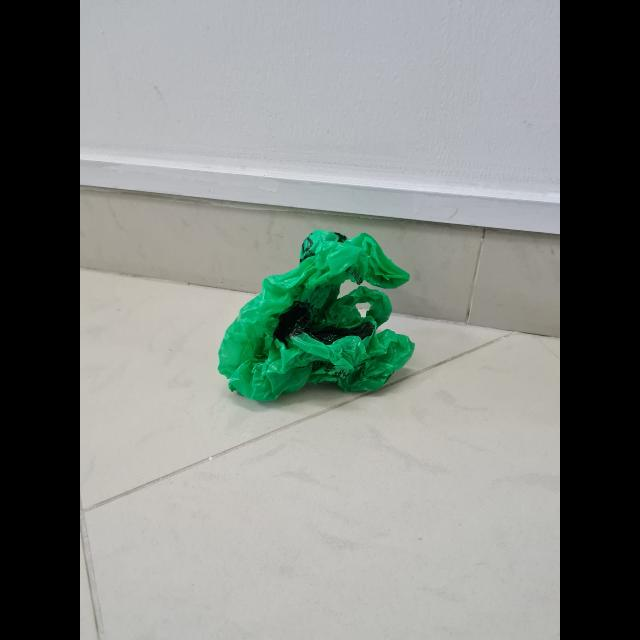plastic_bag: (210, 226, 414, 408)
